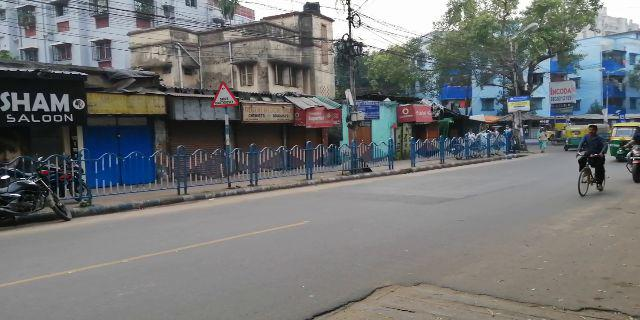Autorickshaw: (609, 118, 638, 163), (563, 122, 587, 154)
Cycle: (573, 125, 611, 194)
Motorbike: (1, 165, 72, 230)
